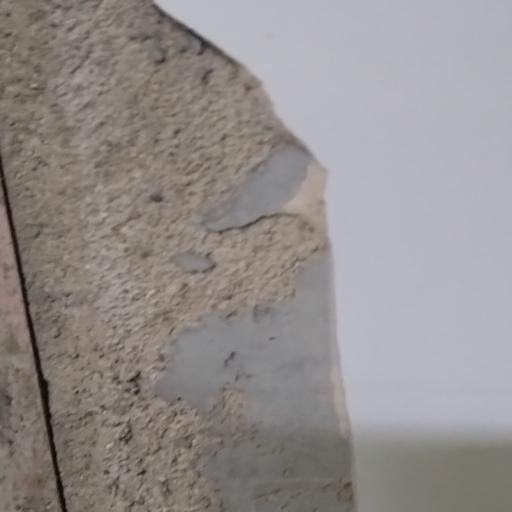spalling: (0, 0, 372, 511)
